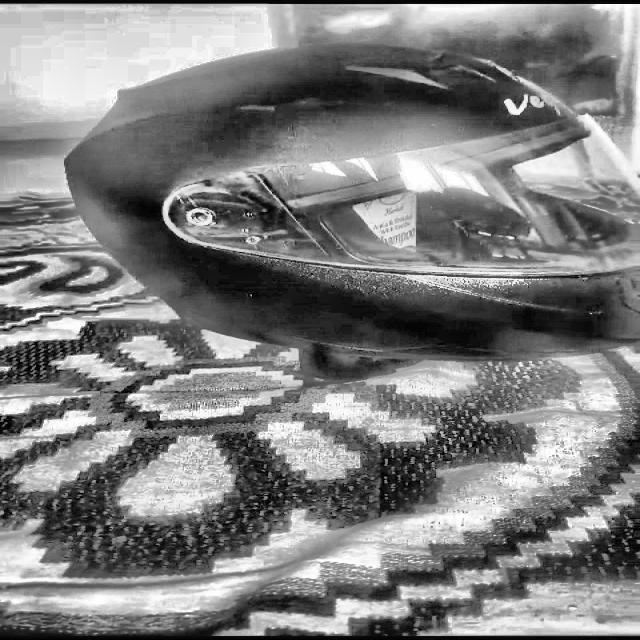Helmet: (59, 45, 640, 372)
